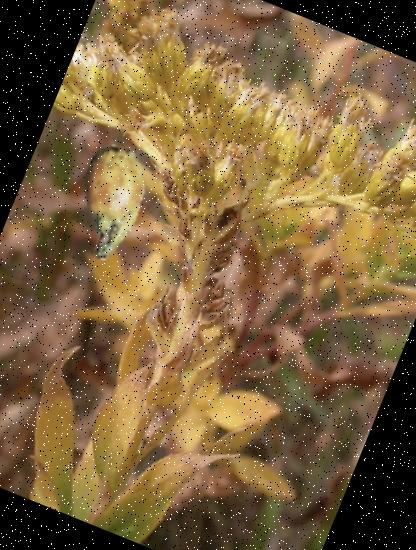Cactus: (37, 127, 190, 279)
